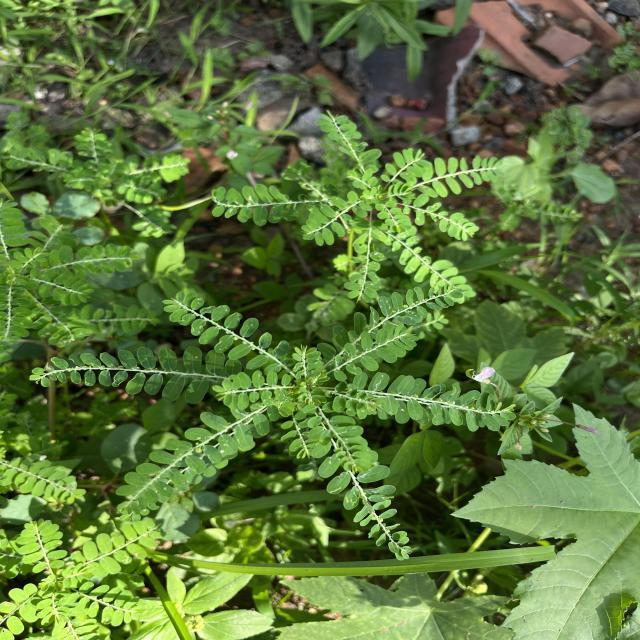Phyllanthus niruri: (114, 410, 260, 517), (29, 349, 226, 404), (322, 448, 415, 564), (346, 375, 529, 432), (164, 292, 288, 370), (72, 518, 164, 578), (386, 234, 473, 297), (309, 406, 381, 474), (328, 326, 418, 379), (362, 282, 465, 325), (300, 190, 372, 248), (206, 182, 302, 224), (416, 154, 504, 198), (208, 372, 300, 410), (397, 196, 477, 238), (318, 109, 372, 169), (15, 518, 68, 576), (375, 200, 415, 234)
